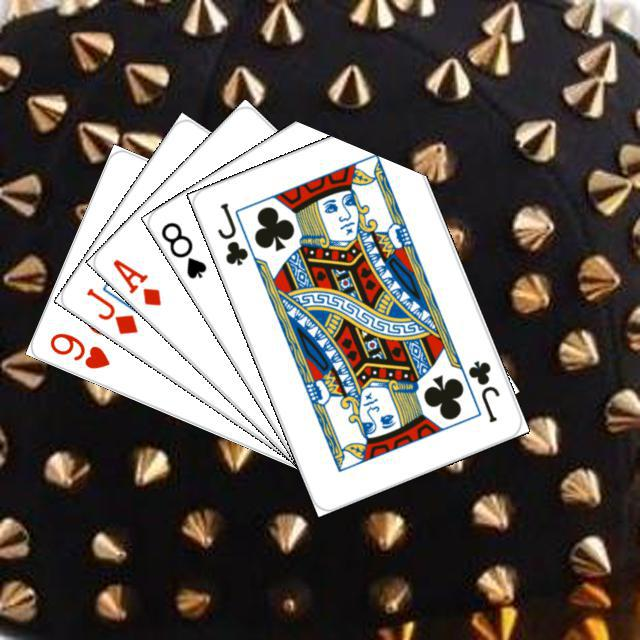8s: (155, 216, 209, 281)
9h: (44, 327, 112, 371)
Ad: (107, 253, 163, 308)
Jc: (212, 197, 250, 268), (463, 355, 502, 424)
Jd: (81, 282, 140, 337)
